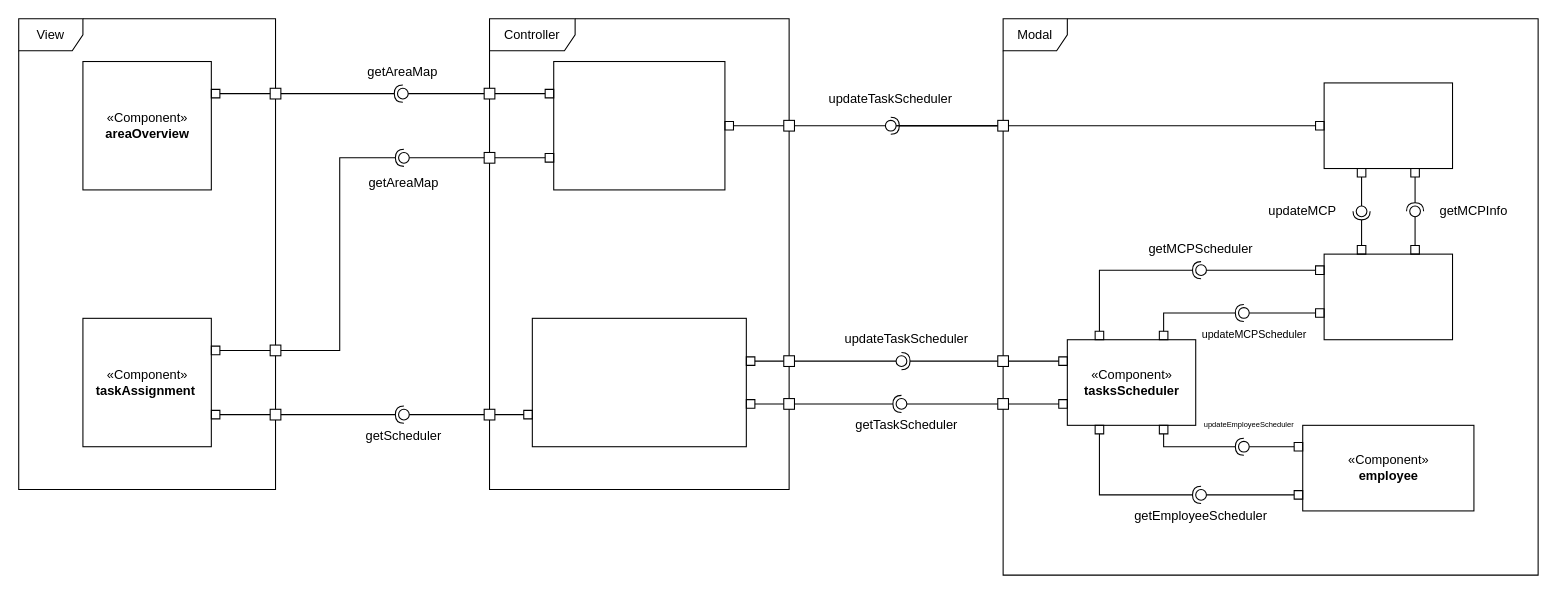
Some shapes in this 1557 by 594 pixel diagram are drawn without their labels. Here are the shapes that lost their labels. From the top down, the centre of each, then its label:
At pixel 639 125: "«Component» areaOverviewController".
At pixel 1388 125: "«Component» map".
At pixel 1388 296: "«Component» MCPs".
At pixel 638 382: "«Component» taskAssignmentController".
